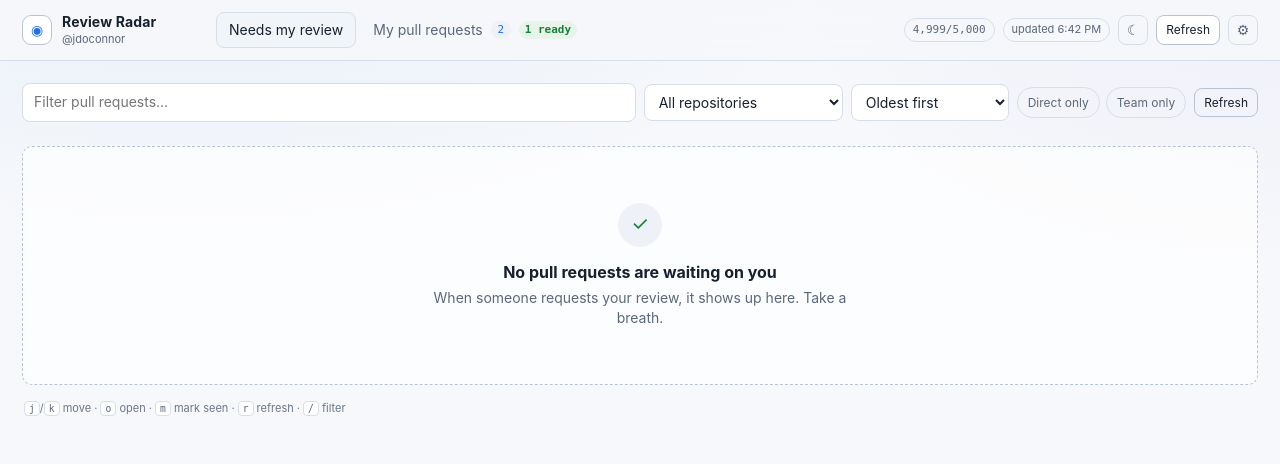
Test: the stack message on a waiting pull request › is reachable by keyboard
The image size is (1280, 464).
Click the button with test id "tab-mine".
click(475, 30)  # box left=360, top=12, right=590, bottom=48
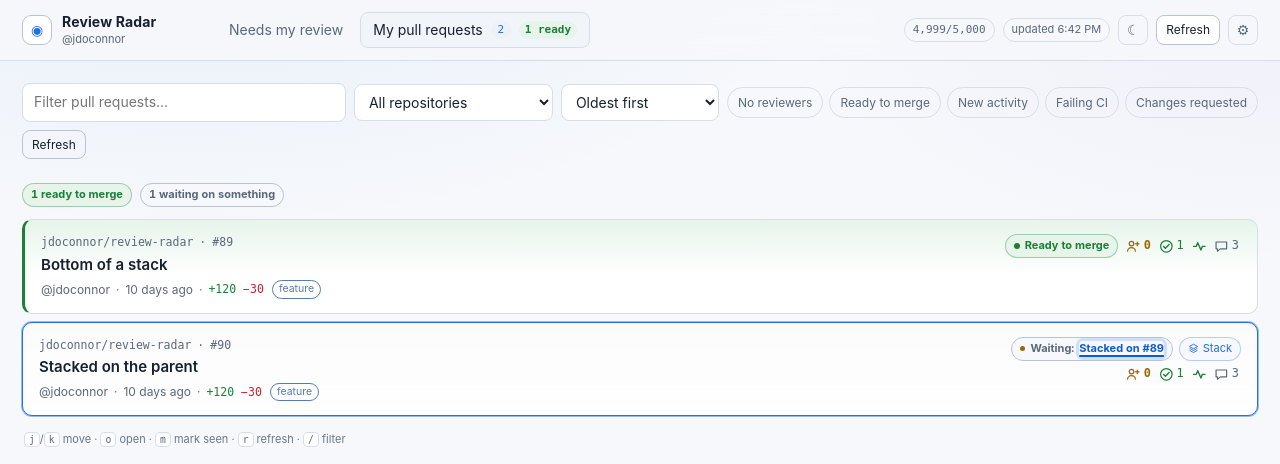
Check: the link "Bottom of a stack" is shown, box left=41, top=255, right=167, bottom=274
